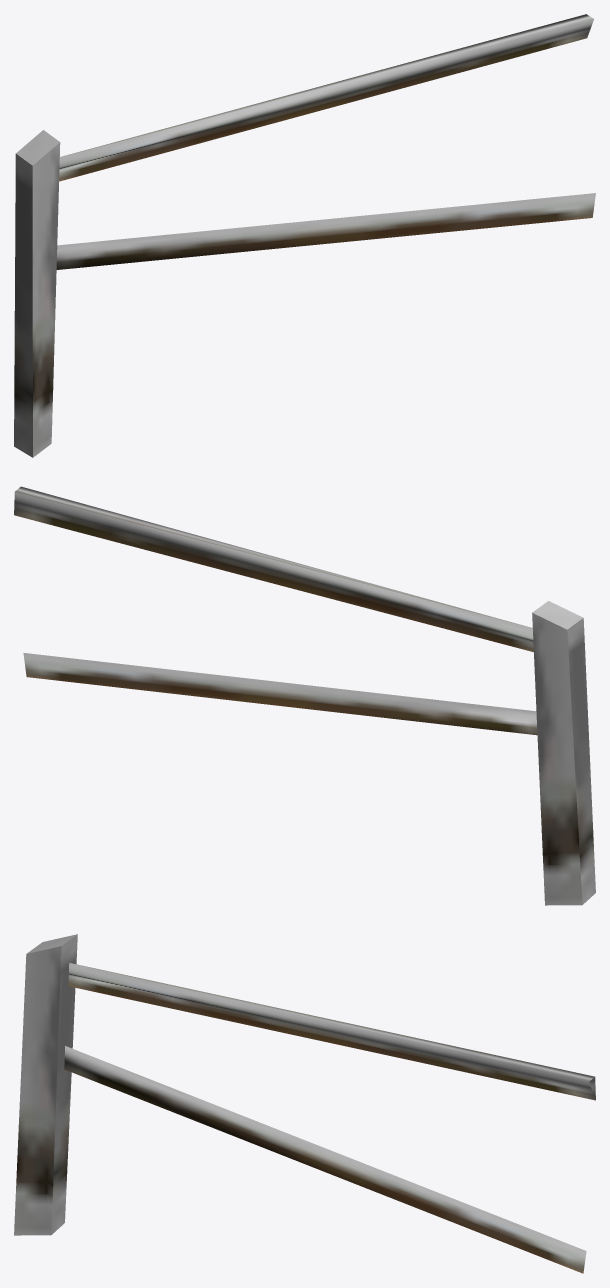
File: general_obj_fence06_lod_01.fbx
3 renders of one model, top to bottom at view 1: azimuth 30°, elevation 25°; view 2: azimuth 150°, elevation 25°; view 3: azimuth 330°, elevation 25°, orthographic. The views are drawn at different scales.
Visible parts, largest first — view 1: Sphere01; view 2: Sphere01; view 3: Sphere01.
Boxes of the visible parts, x1,y1,x2,y2 form: Sphere01: [14, 14, 595, 457]; Sphere01: [14, 486, 595, 905]; Sphere01: [14, 934, 595, 1273].
Size of the model in its own units: 4.28 by 2.11 by 0.3533.
